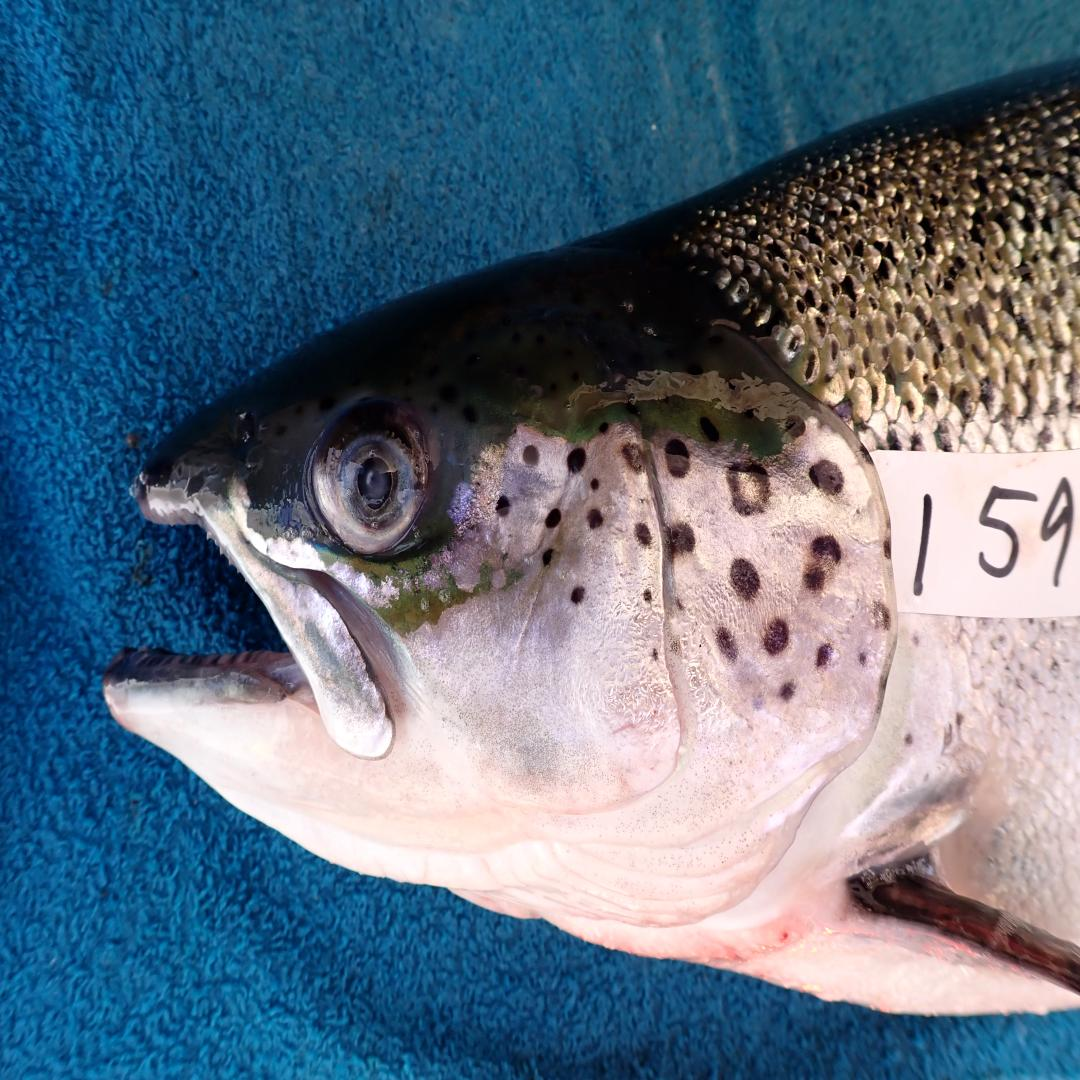roi: (392, 418, 894, 933)
